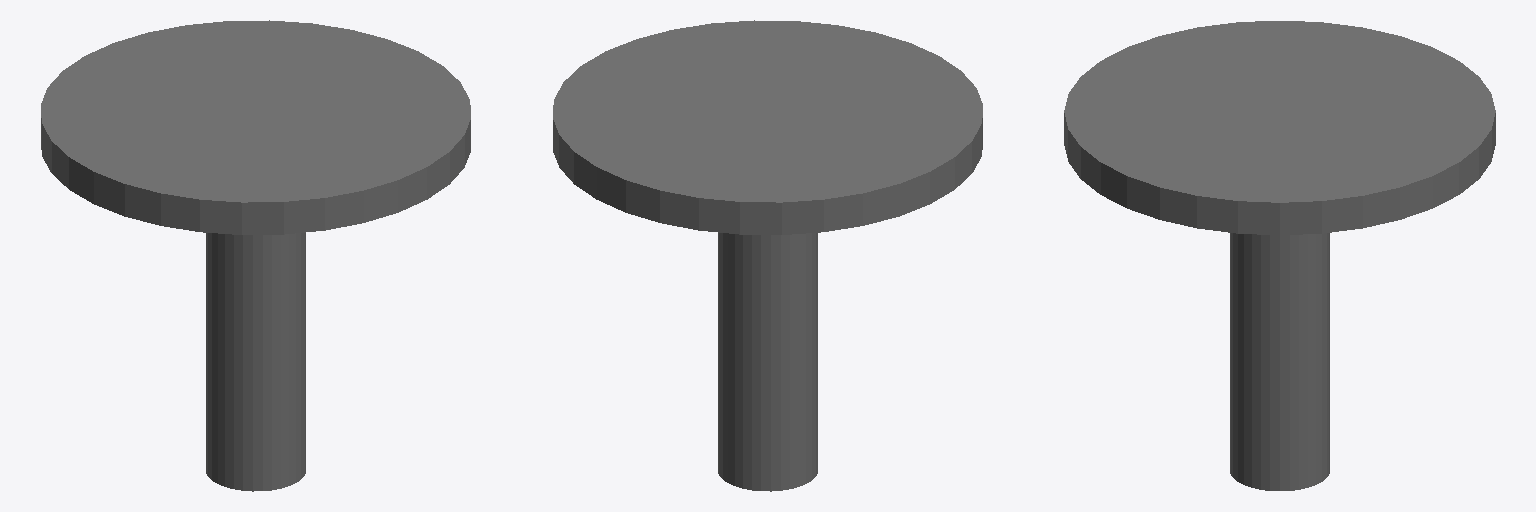
robot.urdf — kinova:
<?xml version="1.0" ?>
<!-- =================================================================================== -->
<!-- |    This document was autogenerated by xacro from [local-path]/rsl_vt/catkin_ws/src/kinova_common/kinova_description/urdf/kinova.urdf.xacro | -->
<!-- |    EDITING THIS FILE BY HAND IS NOT RECOMMENDED                                 | -->
<!-- =================================================================================== -->
<!-- j2s6_3 refers to jaco v2 6DOF spherical 3fingers -->
<robot name="kinova">

  <link name="world"/>

  <link name="table_leg">
     <visual>
       <origin xyz="0 0 0.25" rpy="0 0 0"/>
       <geometry>
         <cylinder length="0.5" radius="0.07" />
       </geometry>
       <material name="Cyan">
         <color rgba="0.5 0.5 0.5 0.8"/>
       </material>
     </visual>

     <collision>
       <geometry>
         <cylinder length = "0.5" radius="0.07" />
       </geometry>
       <origin rpy="0 0 0" xyz="0 0 0.25"/>
     </collision>
   </link>

   <joint name="world_joint" type="fixed">
     <parent link="world"/>
     <child link="table_leg"/>
     <origin rpy="0 0 0" xyz="0 0 0"/>
   </joint>


  <link name="table_plate">
     <visual>
       <origin xyz="0 0 0.025" rpy="0 0 0"/>
       <geometry>
         <cylinder length="0.05" radius="0.3" />
       </geometry>
       <material name="Cyan">
         <color rgba="0.5 0.5 0.5 0.8"/>
       </material>
     </visual>

     <collision>
       <geometry>
         <cylinder length = "0.05" radius="0.3" />
       </geometry>
       <origin rpy="0 0 0" xyz="0 0 0.025"/>
     </collision>
   </link>

   <joint name="table_joint" type="fixed">
     <parent link="table_leg"/>
     <child link="table_plate"/>
     <origin rpy="0 0 0" xyz="0 0 0.5"/>
   </joint>

  <link name="kinova_link_base">
    <visual>
      <geometry>
        <mesh filename="../meshes/base.dae"/>
      </geometry>
      <material name="carbon_fiber">
        <color rgba="0.792156862745098 0.819607843137255 0.933333333333333 1"/>
      </material>
    </visual>

    <collision>
      <geometry>
        <cylinder length = "0.15" radius="0.035" />
      </geometry>
      <origin rpy="0 0 0" xyz="0 0 0.075"/>
    </collision>


  </link>

  <joint name="kinova_joint_base" type="fixed">
    <parent link="table_plate"/>
    <child link="kinova_link_base"/>
    <origin rpy="0 0 0" xyz="0 0 0.05"/>
  </joint>

  <!-- Fixed joint to add dummy inertia link -->
  <joint name="kinova_link_base_to_kinova_link_base_inertia" type="fixed">
    <parent link="kinova_link_base"/>
    <child link="kinova_link_base_inertia"/>
    <origin rpy="0 0 0" xyz="0 0 0"/>
  </joint>

  <!-- Dummy inertia link, because KDL cannot have inertia on the base link -->
  <link name="kinova_link_base_inertia">
    <inertial>
      <mass value="0.46784"/>
      <origin rpy="0 0 0" xyz="0 0 0.1255"/>
      <inertia ixx="0.000951270861568" ixy="0" ixz="0" iyy="0.000951270861568" iyz="0" izz="0.000374272"/>
    </inertial>
  </link>

  <link name="kinova_link_1">
    <visual>
      <geometry>
        <mesh filename="../meshes/shoulder.dae"/>
      </geometry>
      <material name="carbon_fiber">
        <color rgba="0.792156862745098 0.819607843137255 0.933333333333333 1"/>
      </material>
    </visual>
    <visual>
      <geometry>
        <mesh filename="../meshes/ring_big.STL"/>
      </geometry>
    </visual>
    <collision>
      <geometry>
        <cylinder length = "0.14" radius="0.015" />
      </geometry>
      <origin rpy="0 0 0" xyz="0 -0.01 -0.07"/>
    </collision>
    <inertial>
      <mass value="0.7477"/>
      <origin xyz="0 -0.002 -0.0605"/>
      <inertia ixx="0.00152031725204" ixy="0" ixz="0" iyy="0.00152031725204" iyz="0" izz="0.00059816"/>
    </inertial>
  </link>

  <joint name="kinova_joint_1" type="revolute">
    <parent link="kinova_link_base"/>
    <child link="kinova_link_1"/>
    <axis xyz="0 0 1"/>
    <limit effort="30.5" lower="-62.8318530718" upper="62.8318530718" velocity="15"/>
    <origin rpy="0 3.14159265359 0" xyz="0 0 0.15675"/>
    <dynamics damping="0.0" friction="0.0"/>
  </joint>

  <link name="kinova_link_2">
    <visual>
      <geometry>
        <mesh filename="../meshes/arm.dae"/>
      </geometry>
      <material name="carbon_fiber">
        <color rgba="0.792156862745098 0.819607843137255 0.933333333333333 1"/>
      </material>
    </visual>
    <visual>
      <geometry>
        <mesh filename="../meshes/ring_big.STL"/>
      </geometry>
    </visual>

    <collision>
      <geometry>
        <box size = "0.06 0.45 0.015"/>
      </geometry>
      <origin rpy="0 0 0" xyz="0 -0.21 -0.02"/>
    </collision>

    <inertial>
      <mass value="0.99"/>
      <origin xyz="0 -0.2065 -0.01"/>
      <inertia ixx="0.010502207991" ixy="0" ixz="0" iyy="0.000792" iyz="0" izz="0.010502207991"/>
    </inertial>
  </link>

  <joint name="kinova_joint_2" type="revolute">
    <parent link="kinova_link_1"/>
    <child link="kinova_link_2"/>
    <axis xyz="0 0 1"/>
    <limit effort="30.5" lower="-62.8318530718" upper="62.8318530718" velocity="15"/>
    <!-- limit effort also defines torque limit and freeze controller gains -->
    <origin rpy="-1.57079632679 0 3.14159265359" xyz="0 0.0016 -0.11875"/>
    <dynamics damping="0.0" friction="0.0"/>``
  </joint>

  <link name="kinova_link_3">
    <visual>
      <geometry>
        <mesh filename="../meshes/forearm.dae"/>
      </geometry>
      <material name="carbon_fiber">
        <color rgba="0.792156862745098 0.819607843137255 0.933333333333333 1"/>
      </material>
    </visual>
    <visual>
      <geometry>
        <mesh filename="../meshes/ring_big.STL"/>
      </geometry>
    </visual>

    <collision>
      <geometry>
        <box size = "0.06 0.22 0.015"/>
      </geometry>
      <origin rpy="0 0 0" xyz="0 0.09 -0.02"/>
    </collision>

    <inertial>
      <mass value="0.6763"/>
      <origin xyz="0 0.081 -0.0086"/>
      <inertia ixx="0.00142022431908" ixy="0" ixz="0" iyy="0.000304335" iyz="0" izz="0.00142022431908"/>
    </inertial>
  </link>

  <joint name="kinova_joint_3" type="revolute">
    <parent link="kinova_link_2"/>
    <child link="kinova_link_3"/>
    <axis xyz="0 0 1"/>
    <limit effort="30.5" lower="-62.8318530718" upper="62.8318530718" velocity="15"/>
    <!-- limit effort also defines torque limit and freeze controller gains -->
    <origin rpy="0 3.14159265359 0" xyz="0 -0.410 0"/>
    <dynamics damping="0.0" friction="0.0"/>
  </joint>

  <link name="kinova_link_4">
    <visual>
      <geometry>
        <mesh filename="../meshes/wrist_spherical_1.dae"/>
      </geometry>
      <material name="carbon_fiber">
        <color rgba="0.792156862745098 0.819607843137255 0.933333333333333 1"/>
      </material>
    </visual>
    <visual>
      <geometry>
        <mesh filename="../meshes/ring_small.STL"/>
      </geometry>
    </visual>
    --&gt;
    <collision>
      <geometry>
        <cylinder length = "0.03" radius="0.03" />
      </geometry>
      <origin rpy="0 0 0" xyz="0 0 -0.023"/>
    </collision>

    <inertial>
      <mass value="0.463"/>
      <origin xyz="0 0.0028848942 -0.0541932613"/>
      <inertia ixx="0.0004321316048" ixy="0" ixz="0" iyy="0.0004321316048" iyz="0" izz="9.26e-05"/>
    </inertial>
  </link>

  <joint name="kinova_joint_4" type="revolute">
    <parent link="kinova_link_3"/>
    <child link="kinova_link_4"/>
    <axis xyz="0 0 1"/>
    <limit effort="6.8" lower="-62.8318530718" upper="6.28318530718" velocity="15"/>
    <!-- limit effort also defines torque limit and freeze controller gains -->
    <origin rpy="-1.57079632679 0 3.14159265359" xyz="0 0.2073 -0.0114"/>
    <dynamics damping="0.0" friction="0.0"/>
  </joint>

  <link name="kinova_link_5">
    <visual>
      <geometry>
        <mesh filename="../meshes/wrist_spherical_2.dae"/>
      </geometry>
      <material name="carbon_fiber">
        <color rgba="0.792156862745098 0.819607843137255 0.933333333333333 1"/>
      </material>
    </visual>
    <visual>
      <geometry>
        <mesh filename="../meshes/ring_small.STL"/>
      </geometry>
    </visual>
    --&gt;

    <collision>
      <geometry>
        <box size = "0.05 0.15 0.02" />
      </geometry>
      <origin rpy="0 0 0" xyz="0 0.05 -0.015"/>
    </collision>

    <inertial>
      <mass value="0.463"/>
      <origin xyz="0 0.0497208855 -0.0028562765"/>
      <inertia ixx="0.0004321316048" ixy="0" ixz="0" iyy="9.26e-05" iyz="0" izz="0.0004321316048"/>
    </inertial>
  </link>

  <joint name="kinova_joint_5" type="revolute">
    <parent link="kinova_link_4"/>
    <child link="kinova_link_5"/>
    <axis xyz="0 0 1"/>
    <limit effort="6.8" lower="-6.28318530718" upper="62.8318530718" velocity="15"/>
    <!-- limit effort also defines torque limit and freeze controller gains -->
    <origin rpy="1.57079632679 0 3.14159265359" xyz="0 0 -0.10375"/>
    <dynamics damping="0.0" friction="0.0"/>
  </joint>

  <link name="kinova_link_6">
    <visual>
      <geometry>
        <mesh filename="../meshes/hand_3finger.dae"/>
      </geometry>
      <material name="carbon_fiber">
        <color rgba="0.792156862745098 0.819607843137255 0.933333333333333 1"/>
      </material>
    </visual>
    <visual>
      <geometry>
        <mesh filename="../meshes/ring_small.STL"/>
      </geometry>
    </visual>
    <collision>
      <geometry>
        <box size = "0.075 0.075 0.075"/>
      </geometry>
      <origin rpy="0 0 0" xyz="0 0 -0.07"/>
    </collision>
    <inertial>
      <mass value="1.327"/>
      <!-- 0.927 is original mass without additional force sensor -->
      <origin xyz="0 0 -0.06"/>
      <inertia ixx="0.0004403232387" ixy="0" ixz="0" iyy="0.0004403232387" iyz="0" izz="0.0007416"/>
    </inertial>
  </link>

  <joint name="kinova_joint_6" type="revolute">
    <parent link="kinova_link_5"/>
    <child link="kinova_link_6"/>
    <axis xyz="0 0 1"/>
    <limit effort="6.8" lower="-62.8318530718" upper="62.8318530718" velocity="15"/>
    <!-- limit effort also defines torque limit and freeze controller gains -->
    <origin rpy="-1.57079632679 0 3.14159265359" xyz="0 0.10375 0"/>
    <dynamics damping="0.0" friction="0.0"/>
  </joint>

  <link name="kinova_end_effector">
    <!-- Inertial properties and a fixed revolute joint have been added to this link to make it possible to use the gazebo_link_attacher plugin -->
    <!-- Minor collision properties are added to avoid bug/crash when running model in Gazebo -->
    <visual>
      <geometry>
        <box size="0.0001 0.0001 0.0001"/>
      </geometry>
    </visual>
    <inertial>
      <origin rpy="0 0 0" xyz="0.0 0.0 0.0"/>
      <mass value="0.01"/>
      <inertia ixx="0.01" ixy="0" ixz="0" iyy="0.01" iyz="0" izz="0.01"/>
    </inertial>
  </link>

  <joint name="kinova_joint_end_effector" type="fixed">
    <parent link="kinova_link_6"/>
    <child link="kinova_end_effector"/>
    <axis xyz="0 0 0"/>
    <limit effort="2000" lower="0" upper="0" velocity="1"/>
    <origin rpy="3.14159265359 0 0" xyz="0 0 -0.1600"/>
  </joint>

</robot>

--- Facts derived from the render (not from the file) ---
3 views of the same robot in one strip: view 1: azimuth 30°, elevation 25°; view 2: azimuth 150°, elevation 25°; view 3: azimuth 270°, elevation 25° (orthographic).
Model kinova with 12 links and 11 joints (6 revolute, 5 fixed), rooted at world, posed every joint at zero.
Links seen in each view (by area): view 1: table_plate, table_leg; view 2: table_plate, table_leg; view 3: table_plate, table_leg.
Link boxes in pixels (x1,y1,x2,y2): table_plate: (41,20,470,234); table_leg: (206,233,305,491); table_plate: (553,20,982,234); table_leg: (718,233,817,491); table_plate: (1064,21,1495,234); table_leg: (1230,233,1329,490).
Size in the robot's own frame: 0.6 by 0.6 by 0.55 metres.
Meshes: 9 distinct files referenced, 0 mesh visuals loaded (none loaded); not drawn: 13 (reference not matched to a file when rendering).